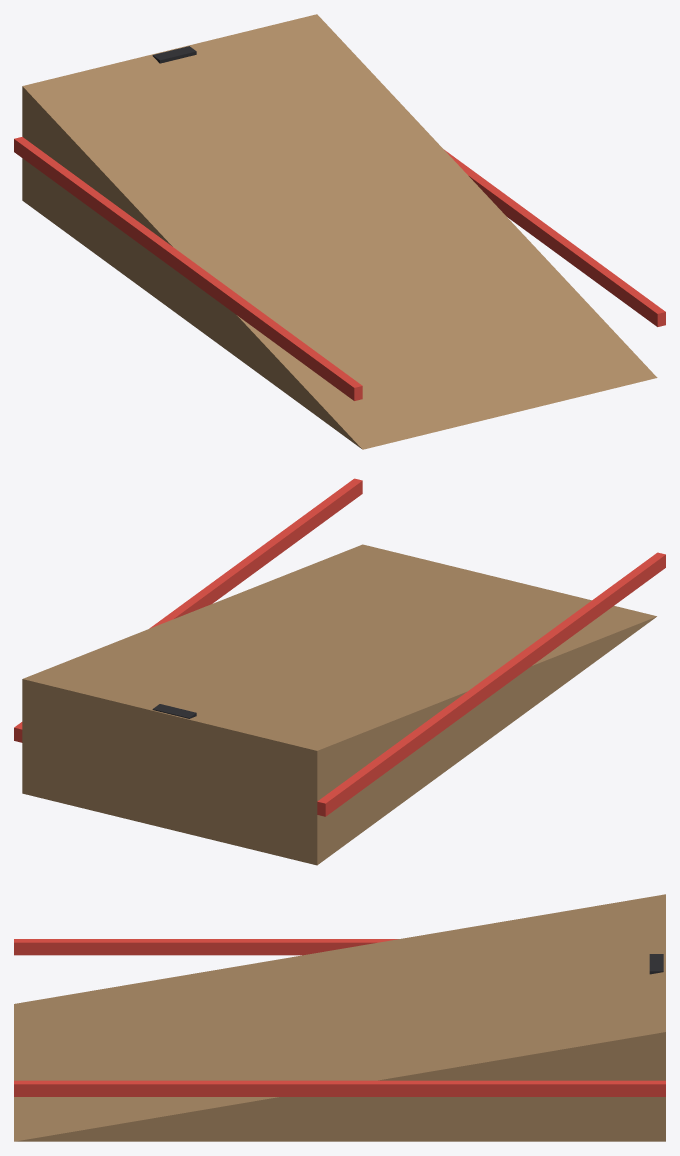
The model's file is gate_ramp.glb.
3 renders of one model, top to bottom at view 1: azimuth 30°, elevation 25°; view 2: azimuth 150°, elevation 25°; view 3: azimuth 270°, elevation 25°, orthographic. The views are drawn at different scales.
Visible parts, largest first — view 1: Ramp; view 2: Ramp; view 3: Ramp.
Part boxes in pixels (<box>): Ramp: <box>14,14,665,449</box>; Ramp: <box>14,478,665,865</box>; Ramp: <box>14,894,665,1141</box>.
Bounding box in the file's own units: 7.4 × 2.61 × 14.
